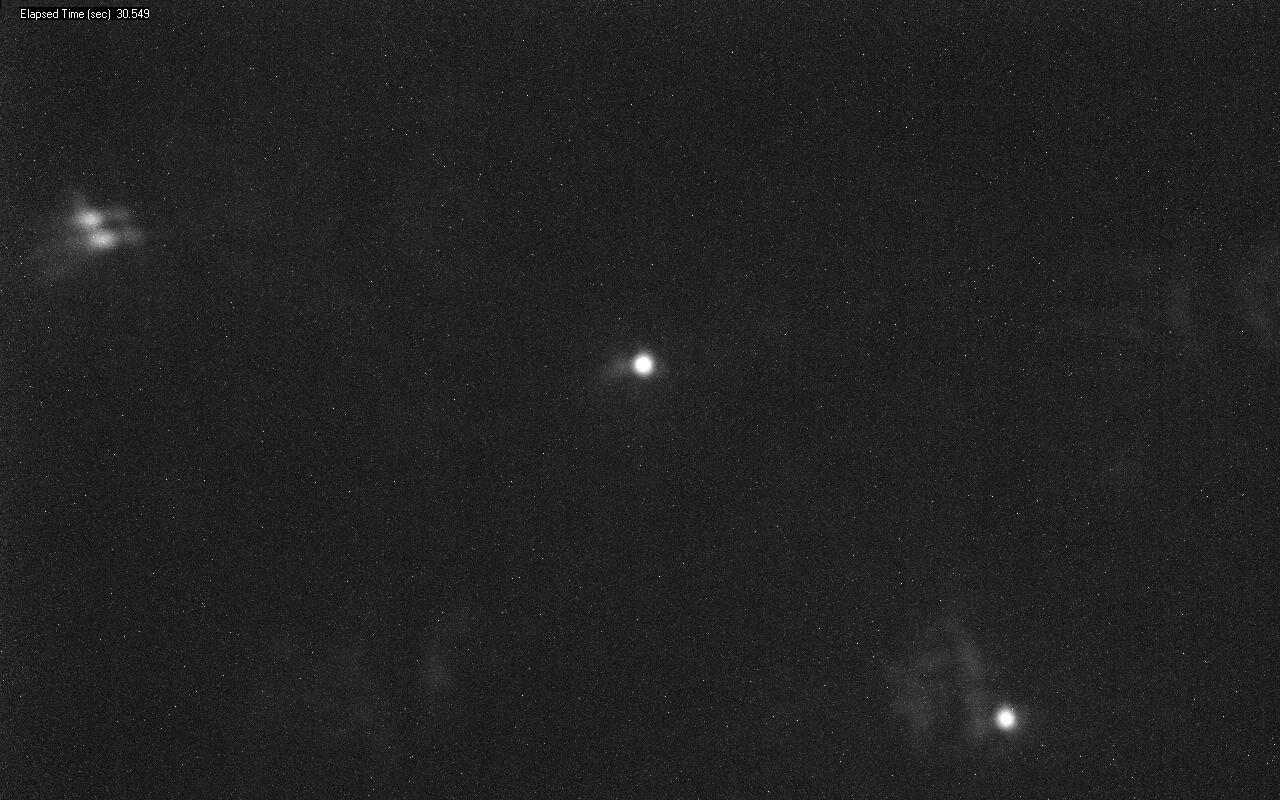Bead: (994, 706, 1018, 731), (631, 353, 654, 376)
